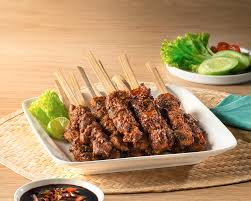Sate ayam/100g: (48, 47, 210, 164)
